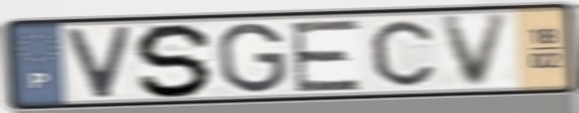C: (367, 18, 438, 89)
E: (288, 17, 365, 94)
G: (215, 20, 290, 96)
S: (131, 21, 220, 99)
V: (437, 11, 515, 91), (62, 23, 136, 101)
